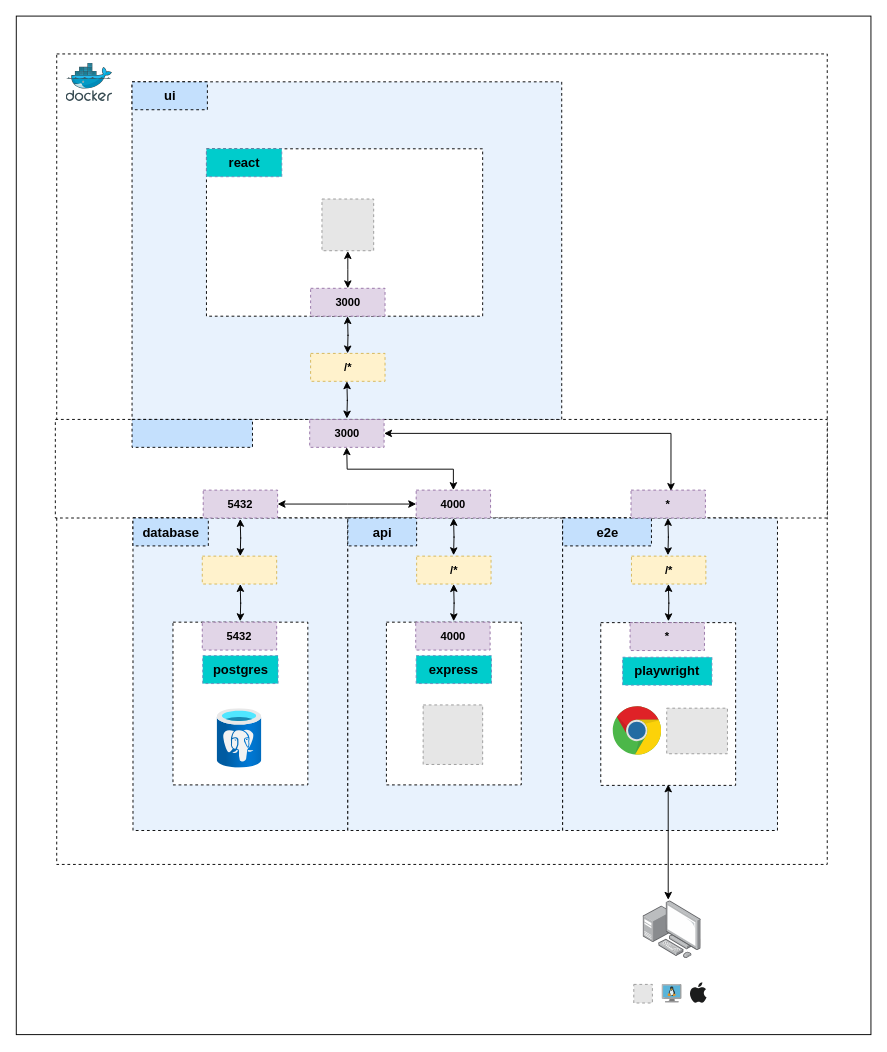
The diagram is 887 pixels wide and 1052 high, and some of its shapes have lost their labels. Grey dashed boxes stand in for pictures. The shapes that lost their labels are listed below. From the top down, each one's centre as x and y in pixels, then its label:
At (x=191, y=432): "bridge network".
At (x=239, y=569): "notes".
At (x=672, y=929): "Computer".
